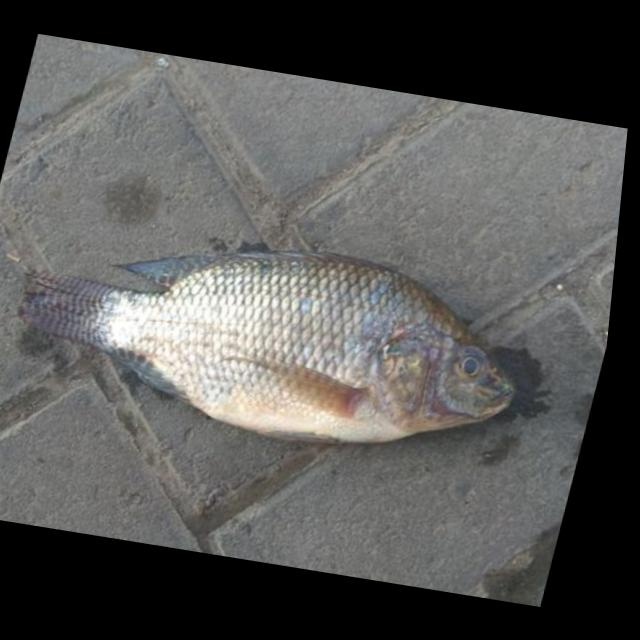Tilapia: (0, 208, 552, 472)
